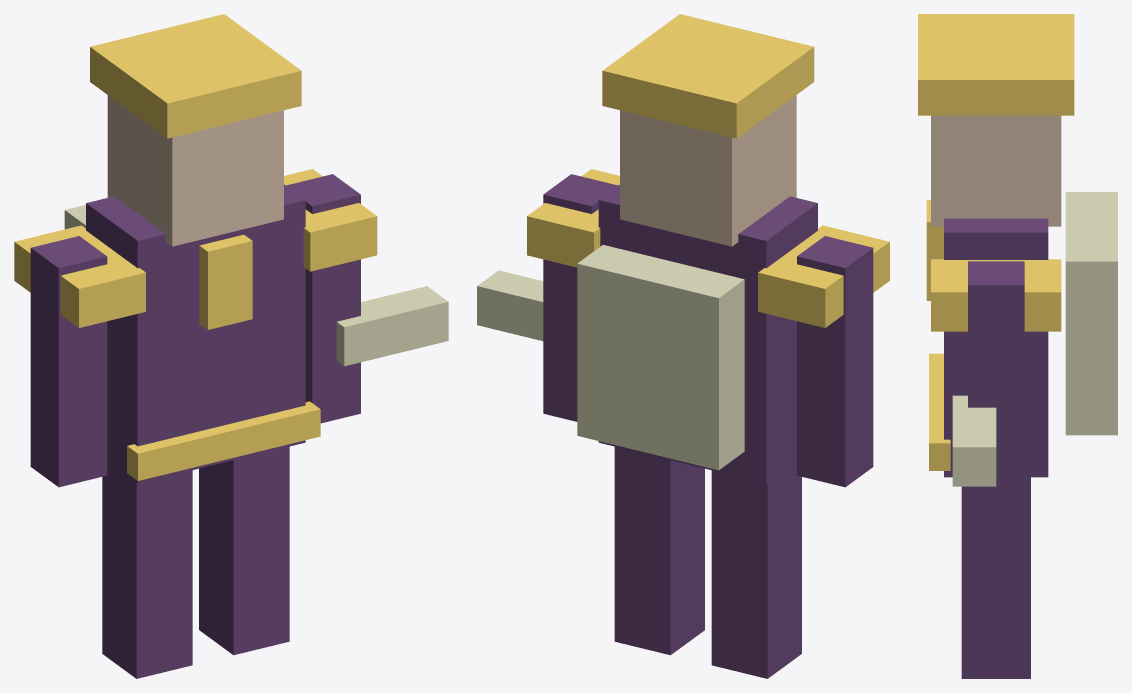
Rendered from 12_ren_skyharrow_watcher_at_street.glb.
3 views of the same model, side by side, from view 1: azimuth 30°, elevation 25°; view 2: azimuth 150°, elevation 25°; view 3: azimuth 270°, elevation 25° (orthographic).
Parts seen in each view (by area): view 1: Ren Skyharrow, Watcher at Street; view 2: Ren Skyharrow, Watcher at Street; view 3: Ren Skyharrow, Watcher at Street.
Part boxes in pixels (bbox=[...]): Ren Skyharrow, Watcher at Street: bbox=[14, 14, 448, 678]; Ren Skyharrow, Watcher at Street: bbox=[477, 14, 889, 678]; Ren Skyharrow, Watcher at Street: bbox=[918, 14, 1117, 678].
Bounding box in the file's own units: 1.06 × 1.56 × 0.4749.
